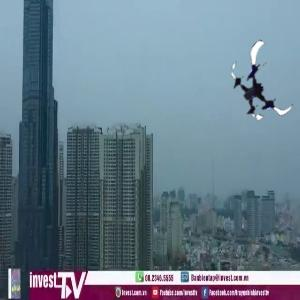drone: (223, 51, 300, 128)
